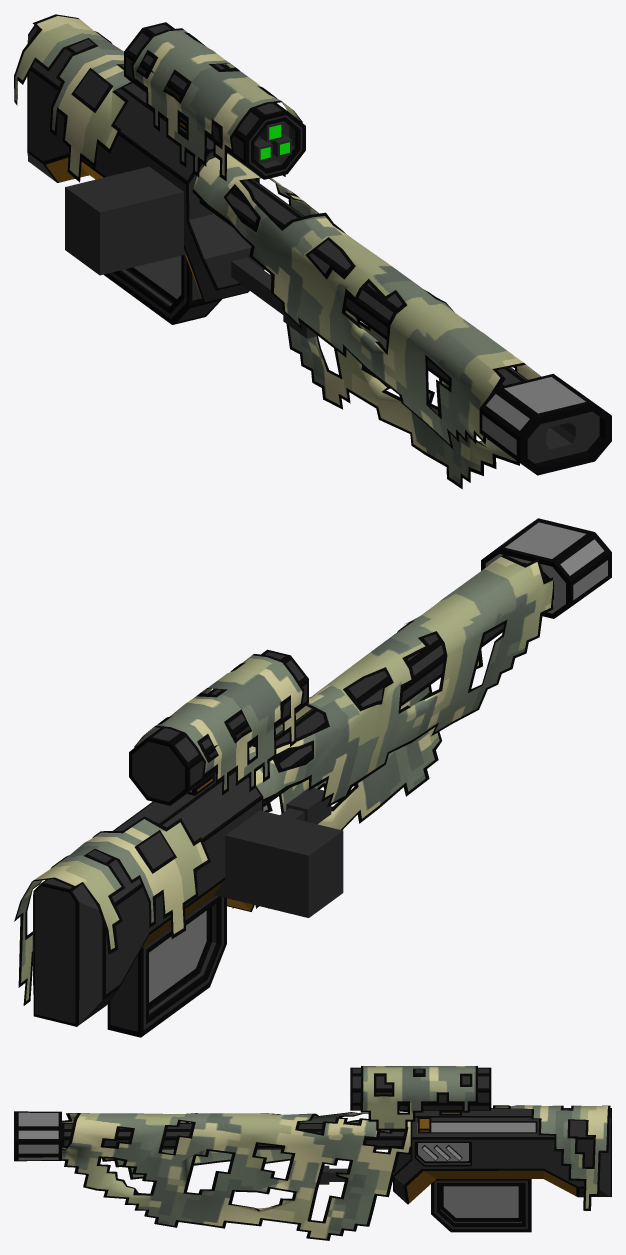
File: Sniper.fbx
The picture shows the model from 3 angles, top to bottom: view 1: azimuth 30°, elevation 25°; view 2: azimuth 150°, elevation 25°; view 3: azimuth 270°, elevation 25°; orthographic projection. The views are drawn at different scales.
Parts seen in each view (by area): view 1: Sniper Barrel Camo], Sniper Main, Sniper Barrel, Sniper Laser Scope Camo, Sniper Main Camo, Sniper Laser Scope, Sniper Mag; view 2: Sniper Main, Sniper Barrel Camo], Sniper Main Camo, Sniper Laser Scope Camo, Sniper Barrel, Sniper Mag, Sniper Laser Scope; view 3: Sniper Barrel Camo], Sniper Main, Sniper Laser Scope Camo, Sniper Mag, Sniper Main Camo, Sniper Barrel, Sniper Laser Scope, Sniper Bolt.
Boxes of the visible parts, bbox=[...] form: Sniper Barrel Camo]: bbox=[192, 153, 540, 489]; Sniper Main: bbox=[27, 25, 317, 338]; Sniper Barrel: bbox=[199, 179, 611, 475]; Sniper Laser Scope Camo: bbox=[131, 28, 302, 181]; Sniper Main Camo: bbox=[14, 14, 132, 182]; Sniper Laser Scope: bbox=[124, 22, 305, 179]; Sniper Mag: bbox=[104, 255, 222, 324]; Sniper Main: bbox=[33, 770, 343, 1026]; Sniper Barrel Camo]: bbox=[232, 554, 553, 908]; Sniper Main Camo: bbox=[14, 816, 210, 1005]; Sniper Laser Scope Camo: bbox=[134, 654, 304, 795]; Sniper Barrel: bbox=[263, 518, 611, 806]; Sniper Mag: bbox=[107, 895, 226, 1037]; Sniper Laser Scope: bbox=[129, 649, 308, 805]; Sniper Barrel Camo]: bbox=[62, 1112, 417, 1240]; Sniper Main: bbox=[319, 1108, 611, 1204]; Sniper Laser Scope Camo: bbox=[360, 1066, 477, 1130]; Sniper Mag: bbox=[431, 1179, 531, 1232]; Sniper Main Camo: bbox=[493, 1105, 610, 1210]; Sniper Barrel: bbox=[14, 1111, 404, 1161]; Sniper Laser Scope: bbox=[350, 1067, 491, 1115]; Sniper Bolt: bbox=[417, 1117, 537, 1133].
Size of the model in its own units: 2.97 by 0.5671 by 0.898.
